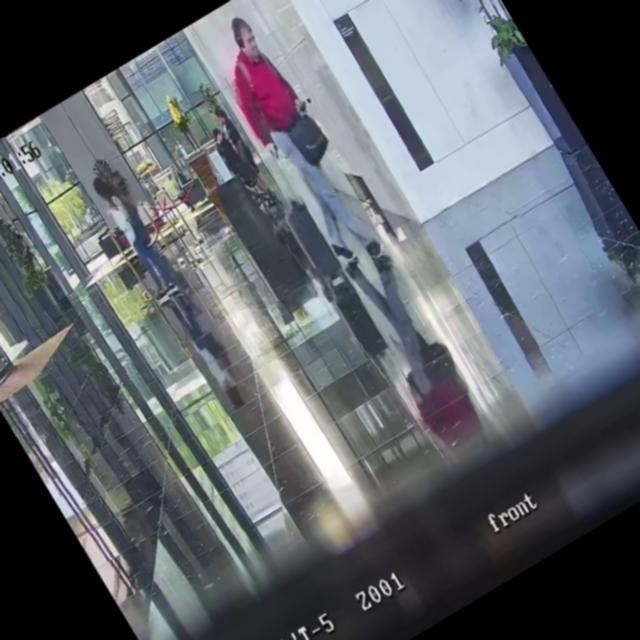person: (198, 8, 395, 282), (86, 168, 182, 303), (209, 102, 272, 194), (207, 124, 249, 179), (162, 160, 204, 214)
